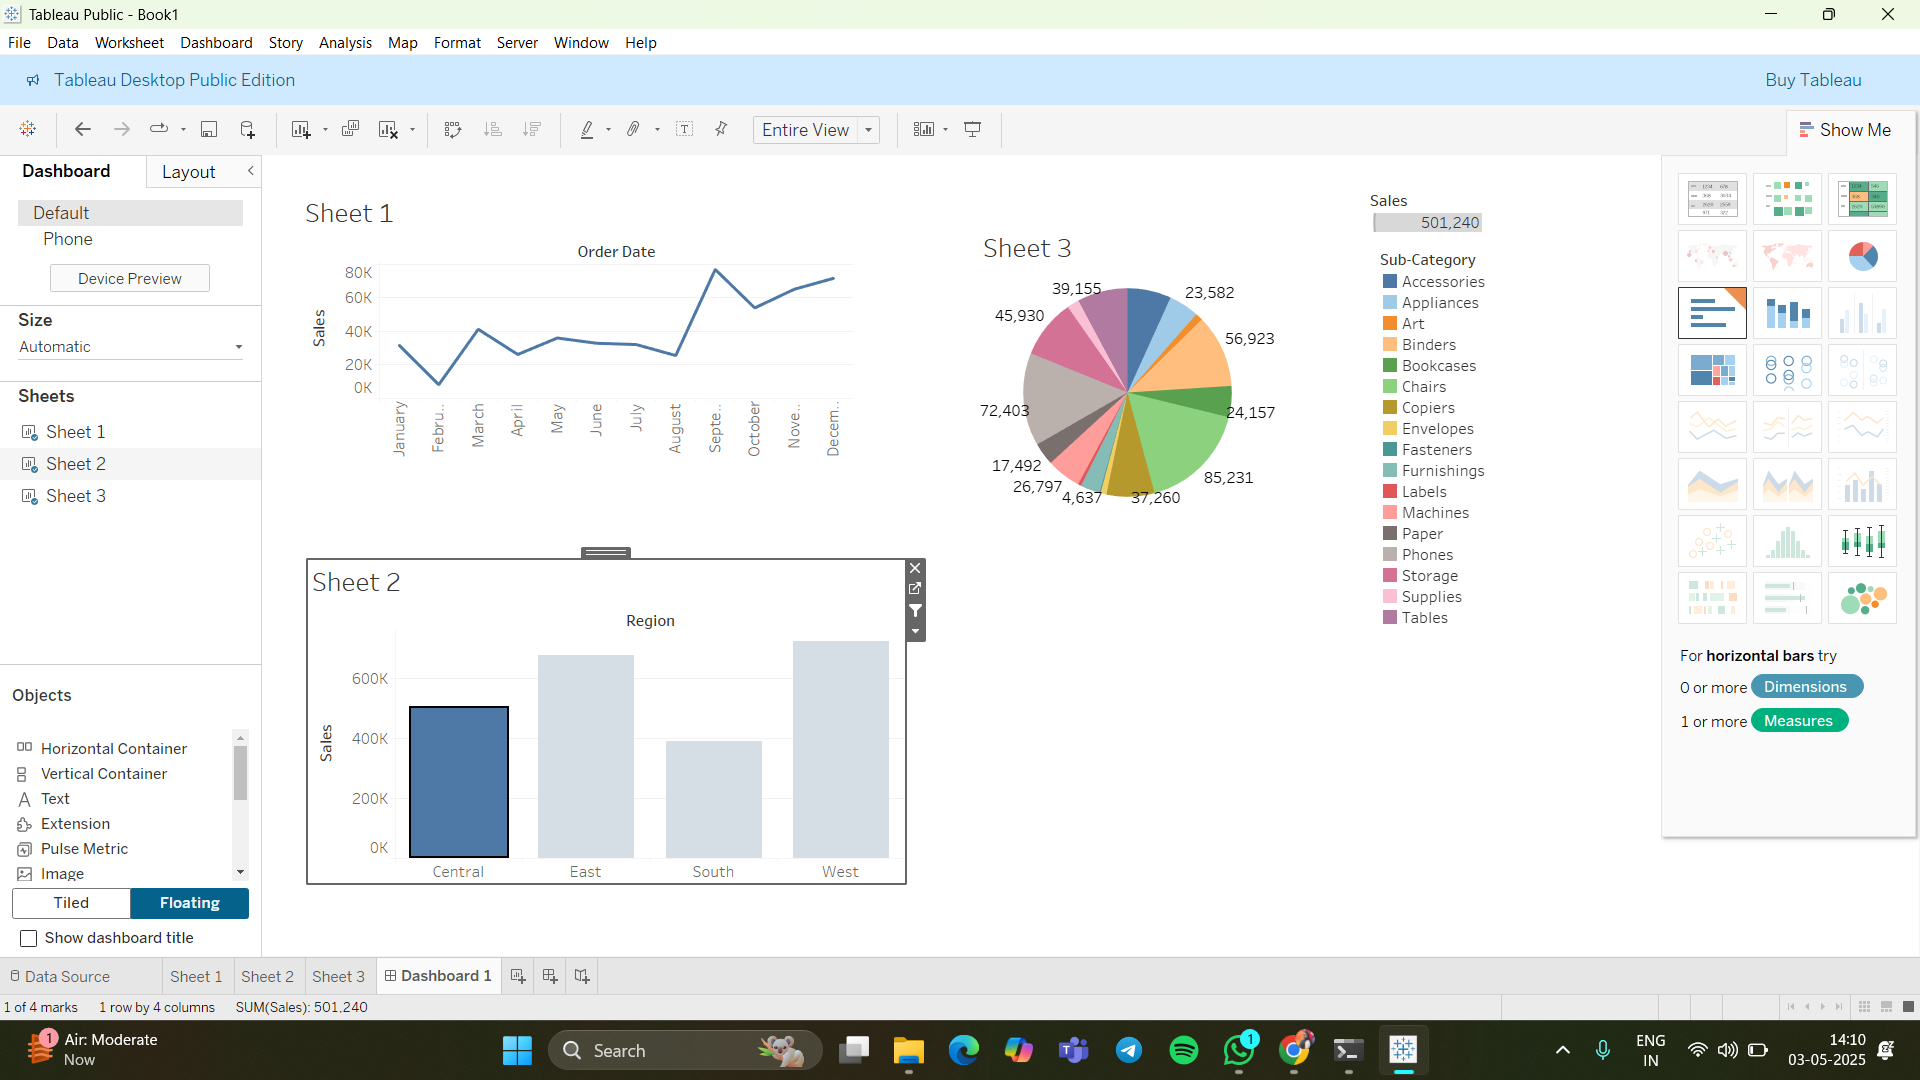

Layout of this report page (visuals, bound fields, positions):
{"tool":"tableau","page":{"name":"Dashboard 1","canvas":[1000,1000],"units":"permille","ordinal":0},"visuals":[{"type":"legend","title":"Sheet 3","param":"[federated.183qhyj1dasz6716432tl1qmbu8s].[sum:Sales:qk]","box":[668.7,43.7,68.8,63.7]},{"type":"worksheet","title":"Sheet 1","mark":"Automatic","rows":["Sales"],"cols":["Order Date"],"box":[23.5,44.9,333.1,333.3]},{"type":"worksheet","title":"Sheet 3","mark":"Pie","box":[432.7,88.6,304.8,402]},{"type":"legend","title":"Sheet 3","param":"[federated.183qhyj1dasz6716432tl1qmbu8s].[none:Sub-Category:nk]","box":[674.7,117.4,84.5,473.2]},{"type":"worksheet","title":"Sheet 2","mark":"Automatic","rows":["Sales"],"cols":["Region"],"box":[27.8,505.6,360.3,403.2]}]}

Visuals, with their boxes on the dashboard's canvas, which has no fixed pixel size, in thousandths of its width and height (x1, y1, x2, y2). These are canvas units, not pixel positions in the 1920x1080 screenshot, which may show the page scaled, cropped or inside an application window:
"Sheet 3" legend: 669 44 738 107
"Sheet 1" worksheet: 24 45 357 378
"Sheet 3" worksheet (Pie marks): 433 89 738 491
"Sheet 3" legend: 675 117 759 591
"Sheet 2" worksheet: 28 506 388 909
